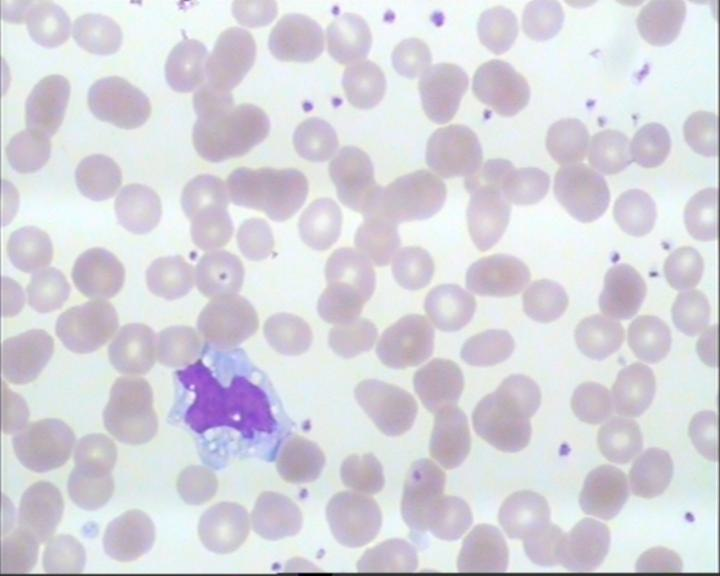mono: (166, 340, 291, 472)
